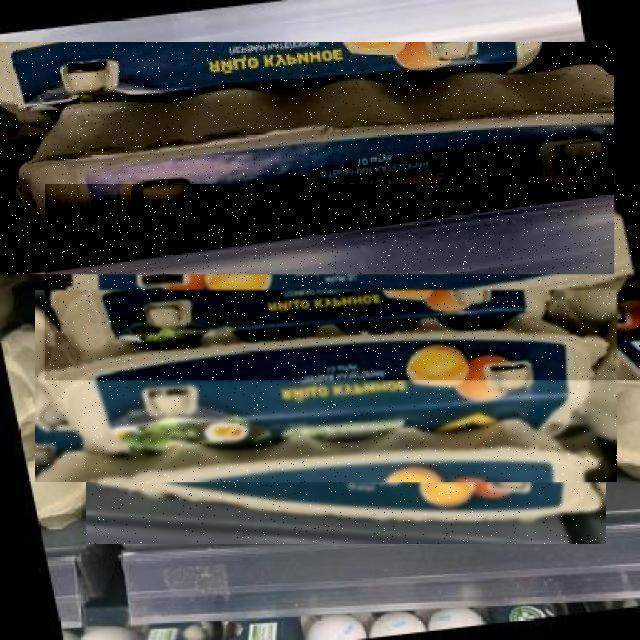Eggs: (0, 43, 614, 275), (45, 185, 640, 381), (35, 290, 617, 482), (86, 399, 606, 545)
